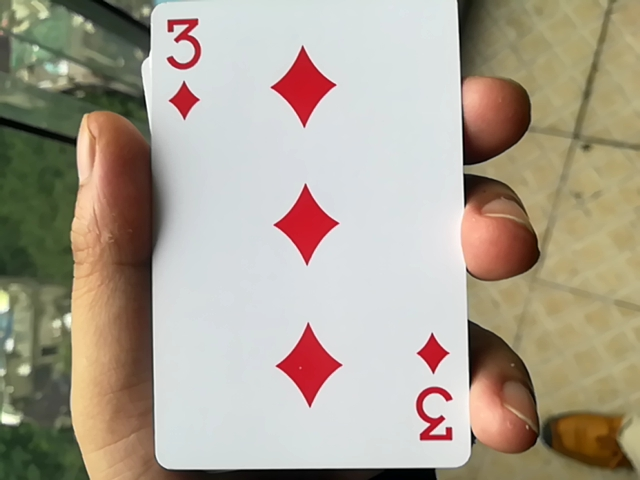fk 3: (133, 0, 474, 470)
